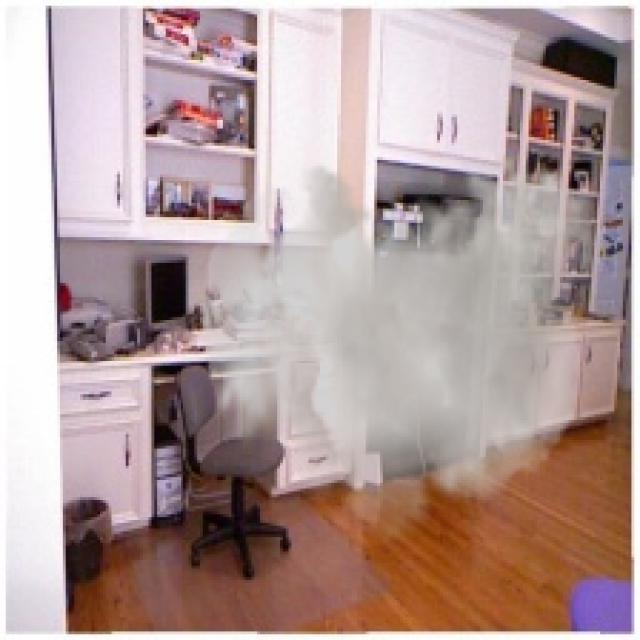Smoke: (200, 148, 597, 554)
